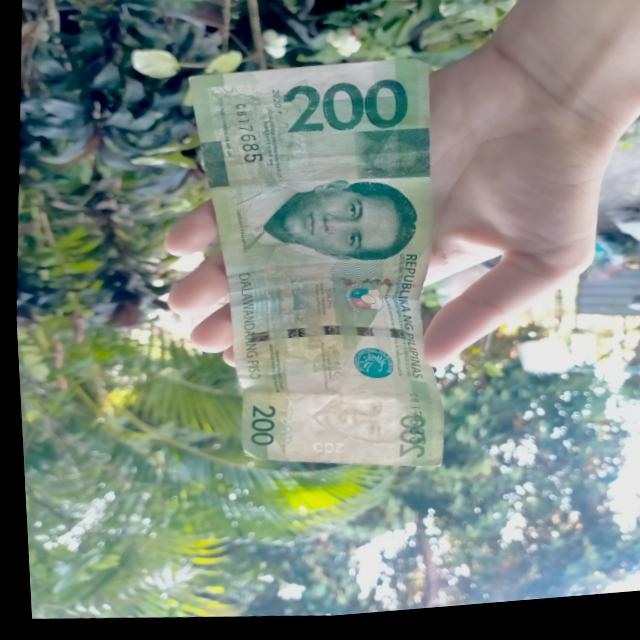concealed_value: (348, 131, 427, 191)
security_thread: (238, 315, 423, 362)
see_through_mark: (264, 393, 302, 455)
value: (277, 76, 411, 150)
value_watermark: (302, 443, 344, 462)
watermark: (291, 378, 416, 457)
